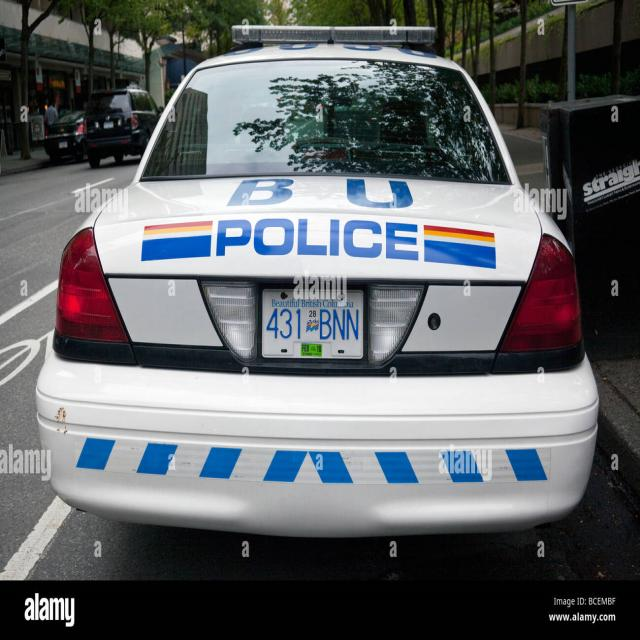yolov7-seg-car: (34, 24, 600, 539)
